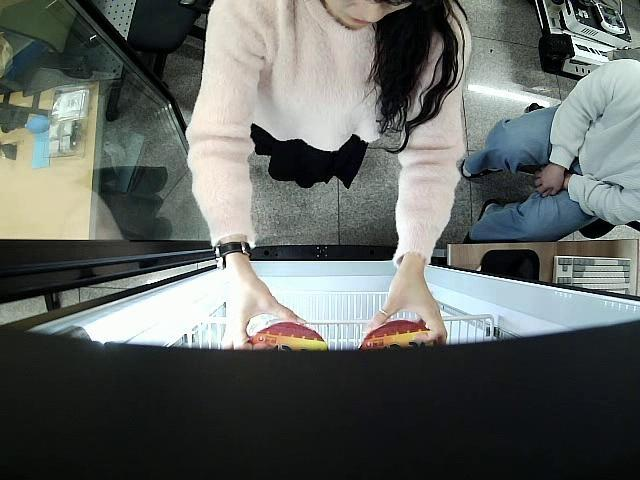05_nuguri_L: (242, 320, 329, 354), (359, 318, 444, 350)
